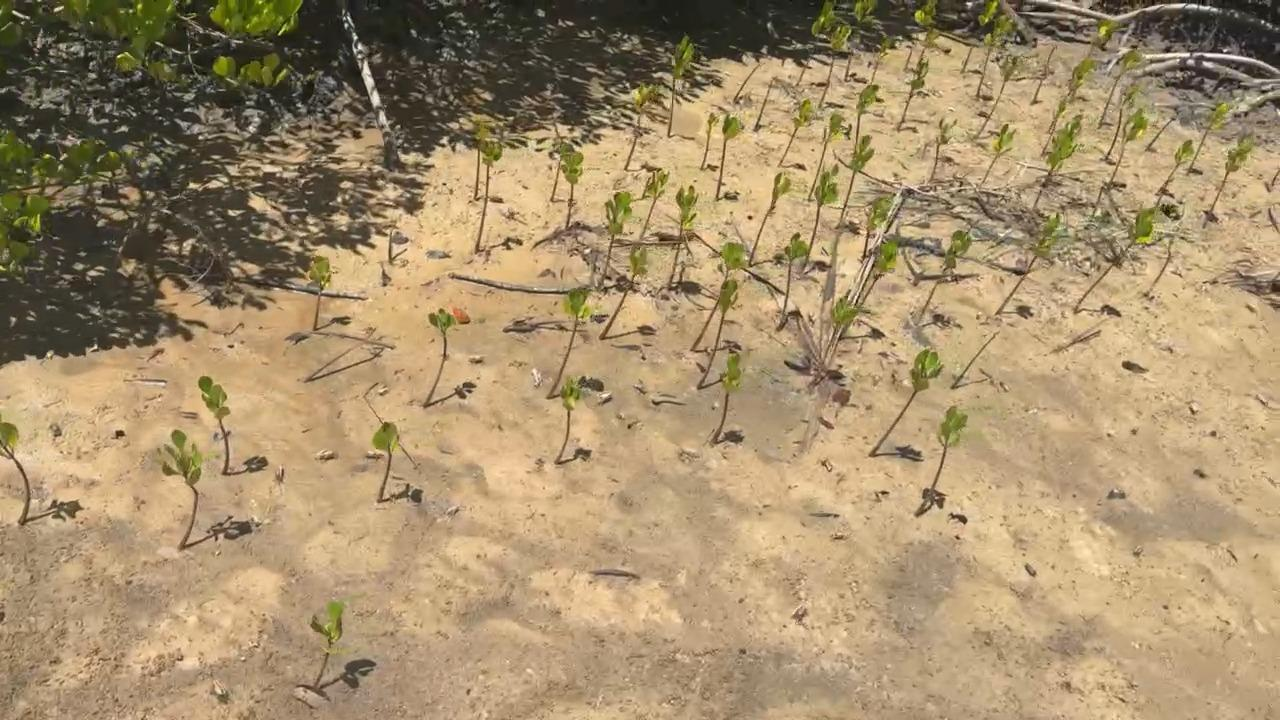Tree: (1073, 213, 1156, 313), (871, 351, 941, 458), (995, 211, 1064, 318), (690, 243, 747, 351), (916, 407, 968, 518), (546, 287, 593, 398), (1031, 117, 1087, 208), (162, 430, 202, 548), (697, 281, 741, 387), (599, 248, 649, 340), (808, 299, 858, 388), (974, 51, 1024, 139), (1208, 133, 1255, 214), (925, 231, 974, 307), (795, 1, 838, 86), (751, 171, 791, 258), (807, 112, 849, 194), (974, 15, 1017, 95), (1098, 49, 1142, 127), (198, 376, 233, 474), (0, 424, 33, 525), (421, 308, 454, 405), (1187, 103, 1231, 175), (805, 170, 839, 262), (840, 135, 877, 218), (861, 237, 903, 310), (308, 601, 343, 688), (776, 234, 809, 326), (842, 0, 880, 79), (1111, 108, 1148, 186), (625, 85, 659, 169), (1104, 85, 1142, 159), (477, 141, 502, 252), (960, 1, 999, 72), (667, 36, 694, 137), (667, 187, 695, 284), (818, 23, 851, 105), (556, 376, 586, 465), (953, 333, 1000, 389), (638, 169, 673, 243), (778, 99, 815, 167), (714, 356, 743, 440), (602, 192, 633, 269), (980, 125, 1019, 186), (716, 115, 745, 194), (898, 57, 931, 126), (1156, 140, 1195, 198), (905, 0, 939, 66), (371, 422, 398, 499), (861, 200, 894, 260), (852, 84, 882, 144), (931, 117, 960, 179), (309, 258, 333, 330), (564, 150, 585, 228), (1039, 98, 1067, 156), (1033, 43, 1057, 102), (1086, 20, 1121, 60), (552, 139, 572, 202), (732, 63, 765, 101), (915, 25, 943, 69), (472, 130, 488, 205), (1067, 60, 1097, 99), (753, 80, 776, 127), (1147, 117, 1178, 150), (700, 115, 718, 170), (1149, 251, 1173, 290), (871, 39, 892, 78), (388, 228, 394, 263)
